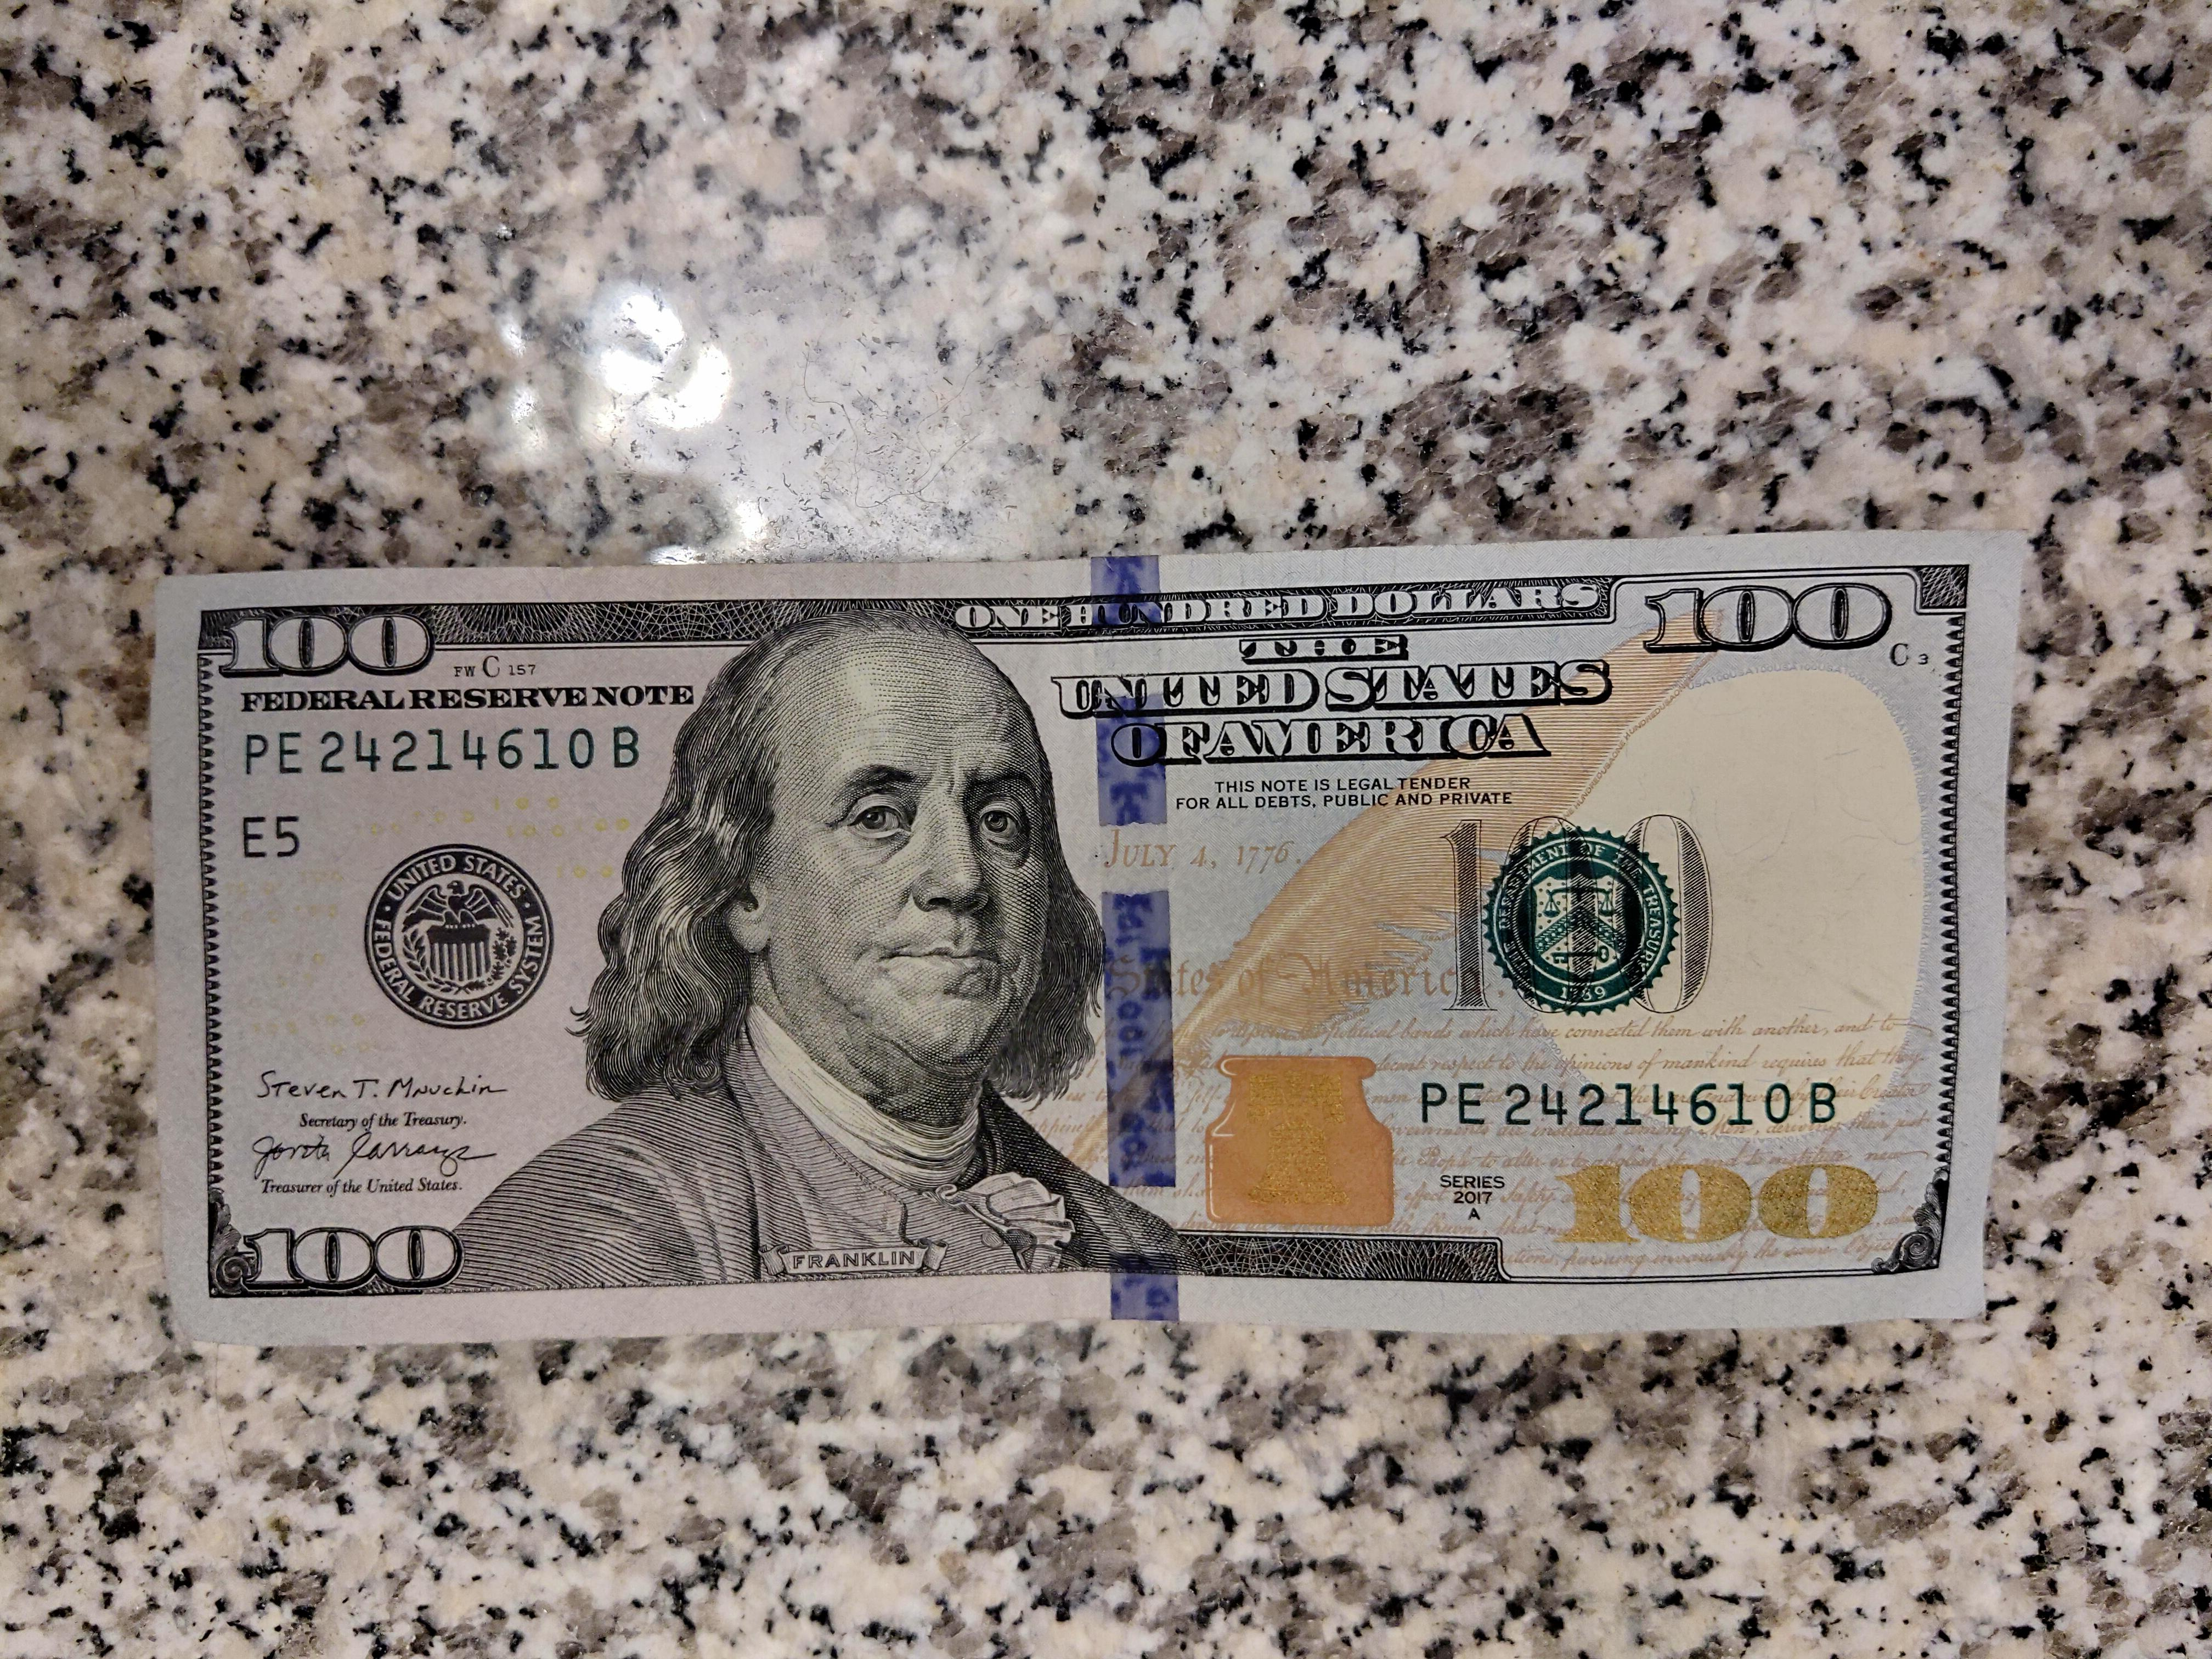HundredBill: (146, 525, 2033, 1349)
